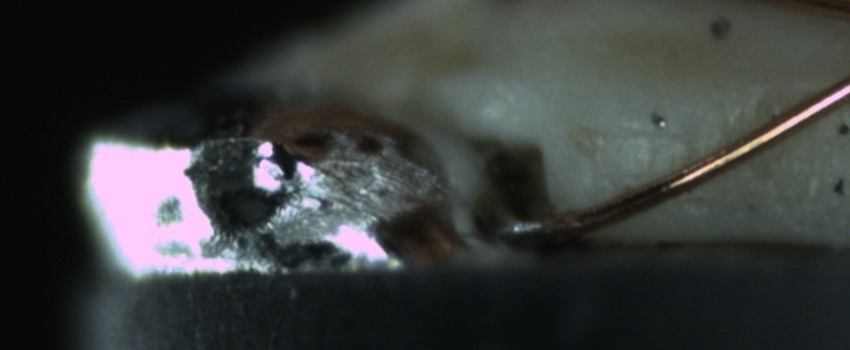DL: (578, 104, 698, 160)
TS: (504, 214, 552, 244)
